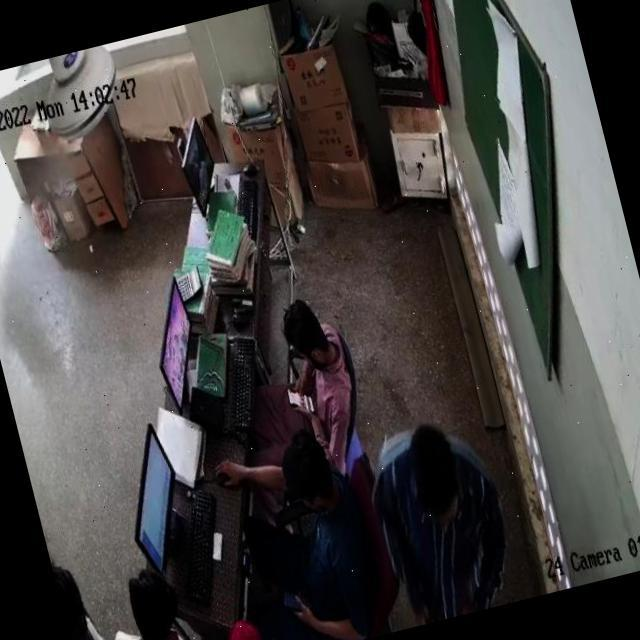person: (236, 408, 386, 639), (371, 412, 524, 626), (236, 292, 367, 471), (97, 563, 225, 640), (50, 550, 133, 640), (221, 598, 311, 640)
